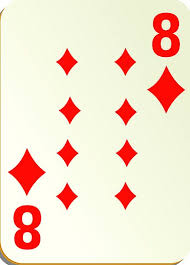eight of diamonds: (2, 6, 184, 258)
